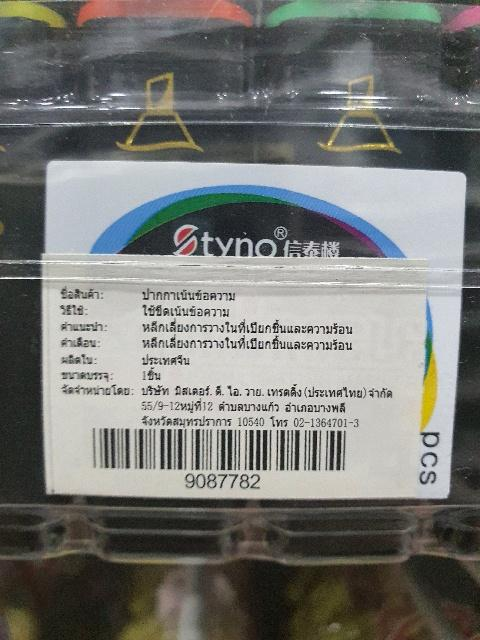Barcode: (81, 422, 353, 490)
